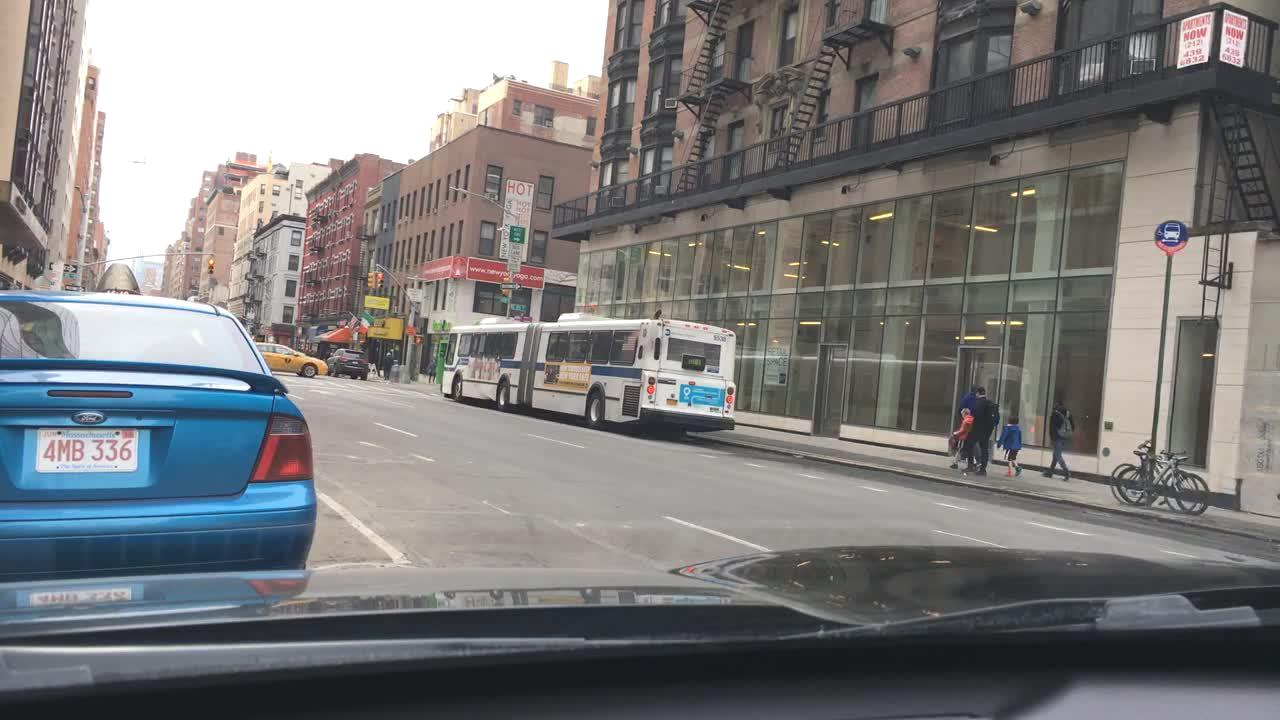ford: (72, 407, 108, 431)
